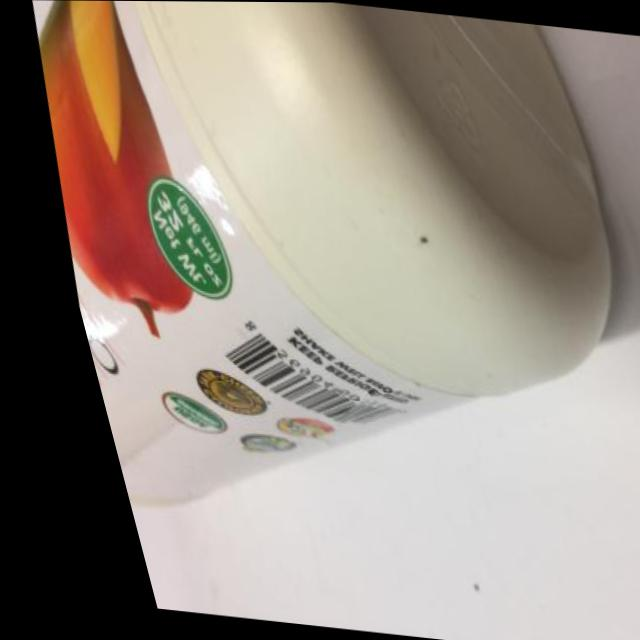plastic: (0, 0, 640, 621)
